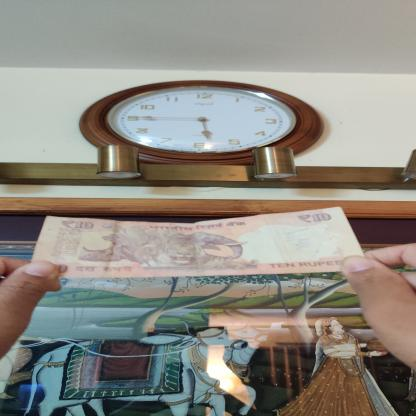Old10Back: (29, 207, 368, 278)
